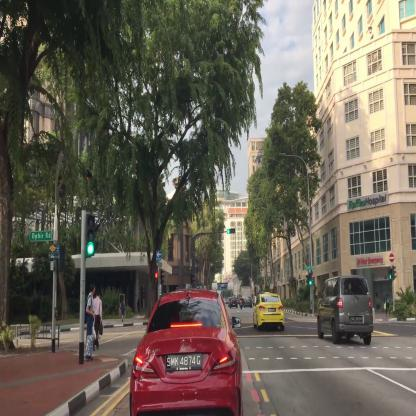green_traffic_light: (86, 215, 94, 255), (227, 228, 235, 232), (309, 274, 311, 284)
